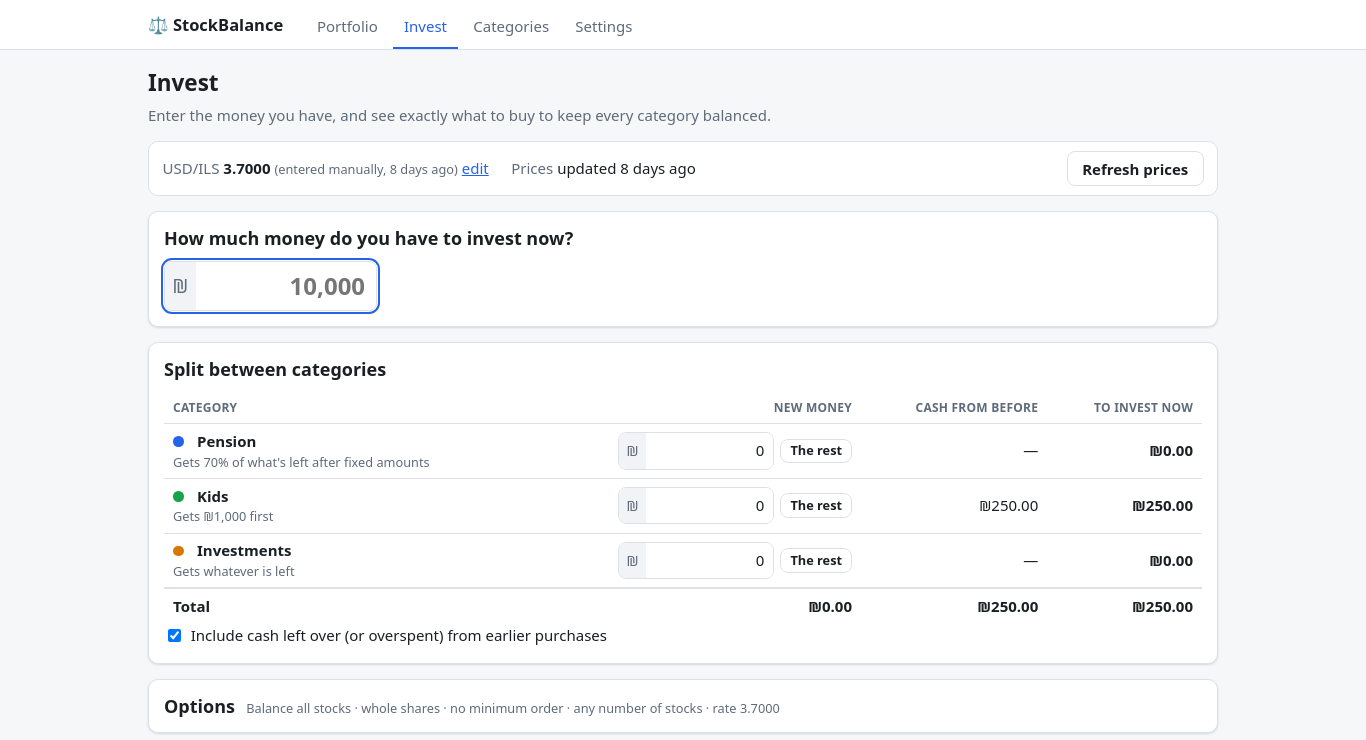
InvestPage › lets the user change one category amount and reset to the rules
Type "10000" into the field named "Amount to invest in ILS" at (286, 286), box 196,262 -> 376,310
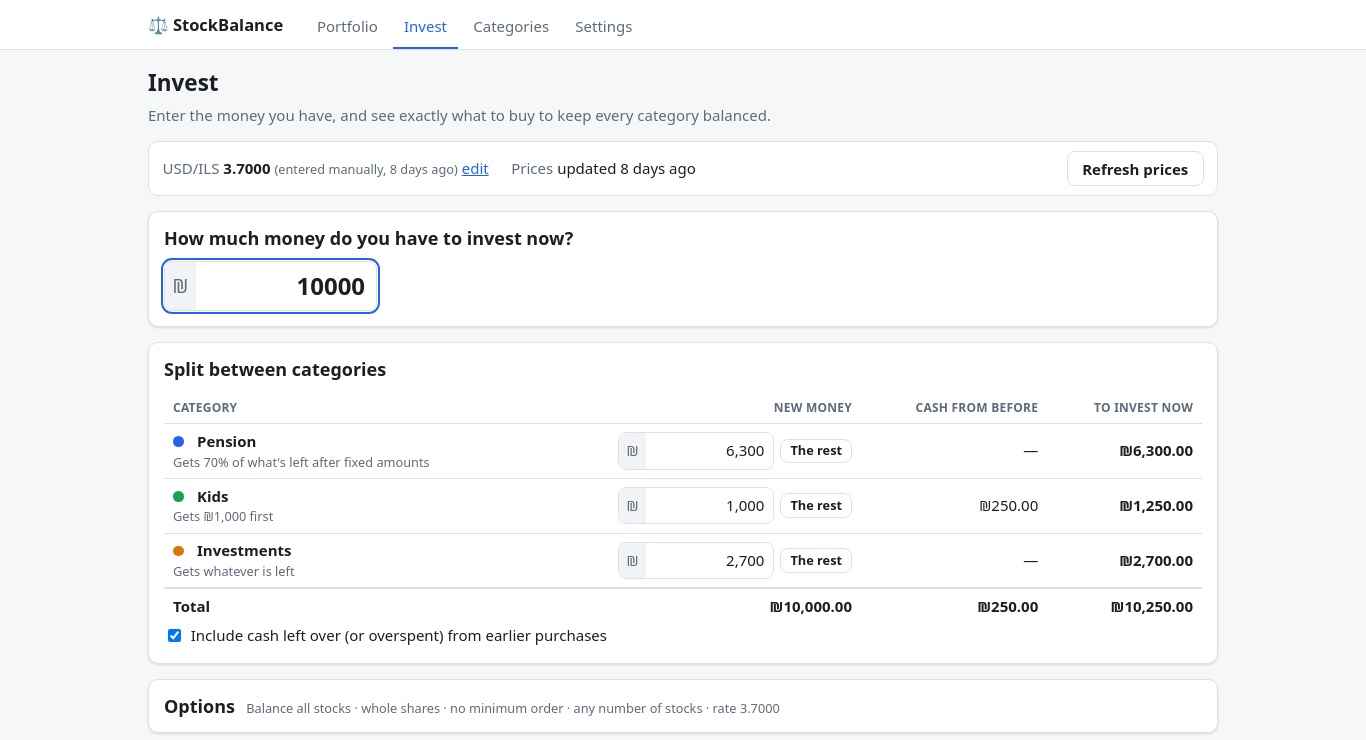
Clear the field named "New money for Kids" at (710, 506), box 646,488 -> 774,523
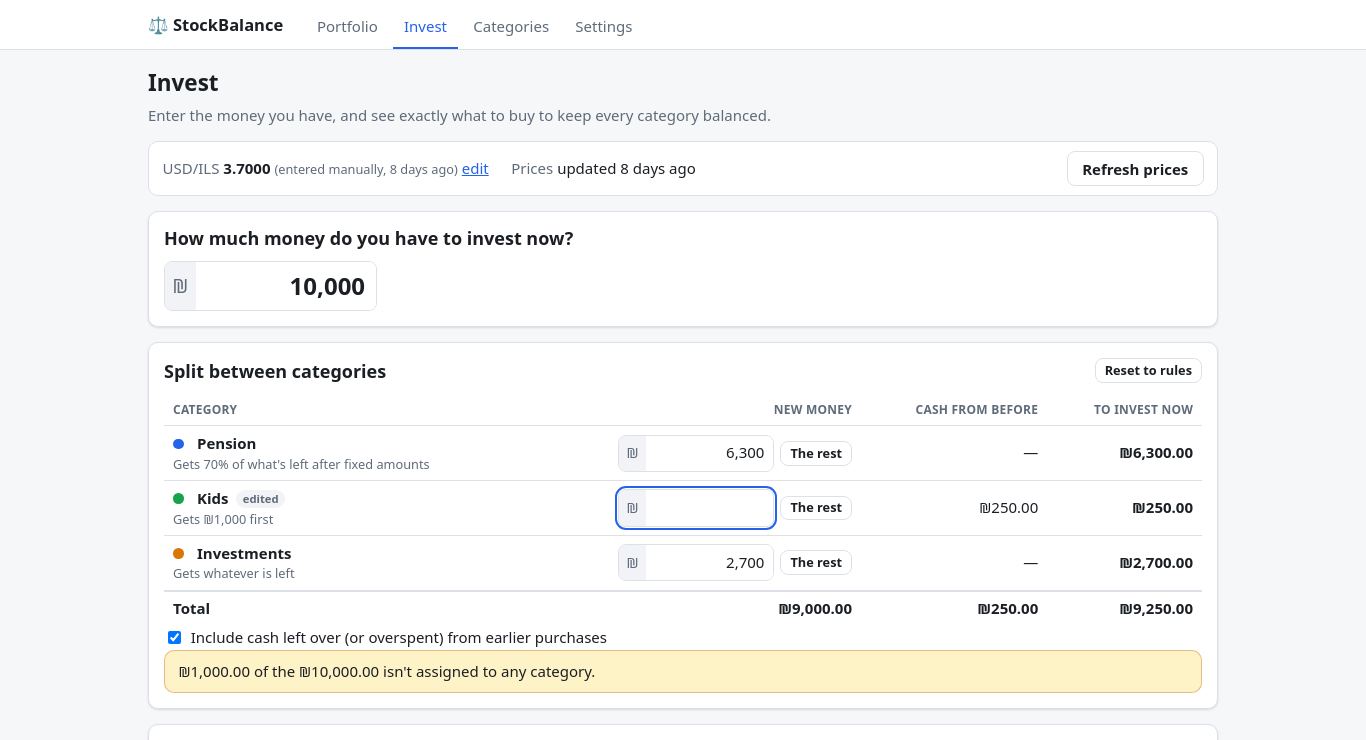
Type "2000" into the field named "New money for Kids" at (710, 508), box 646,490 -> 774,526
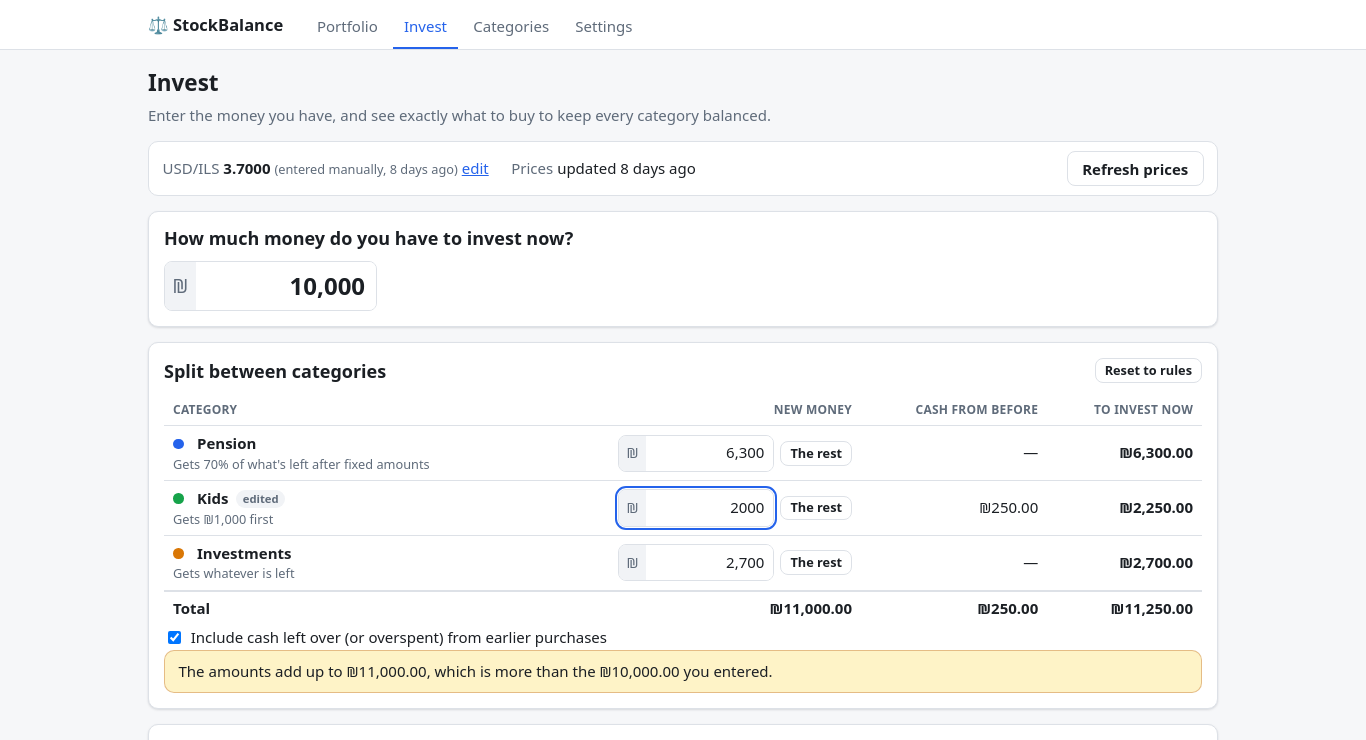
Result: the text "edited" is shown at 236,490 -> 285,508
Result: the text "more than the ₪10,000.00 you entered" is shown at 178,661 -> 773,681
Click the button "Reset to rules" at (1148, 371), box 1095,358 -> 1202,383
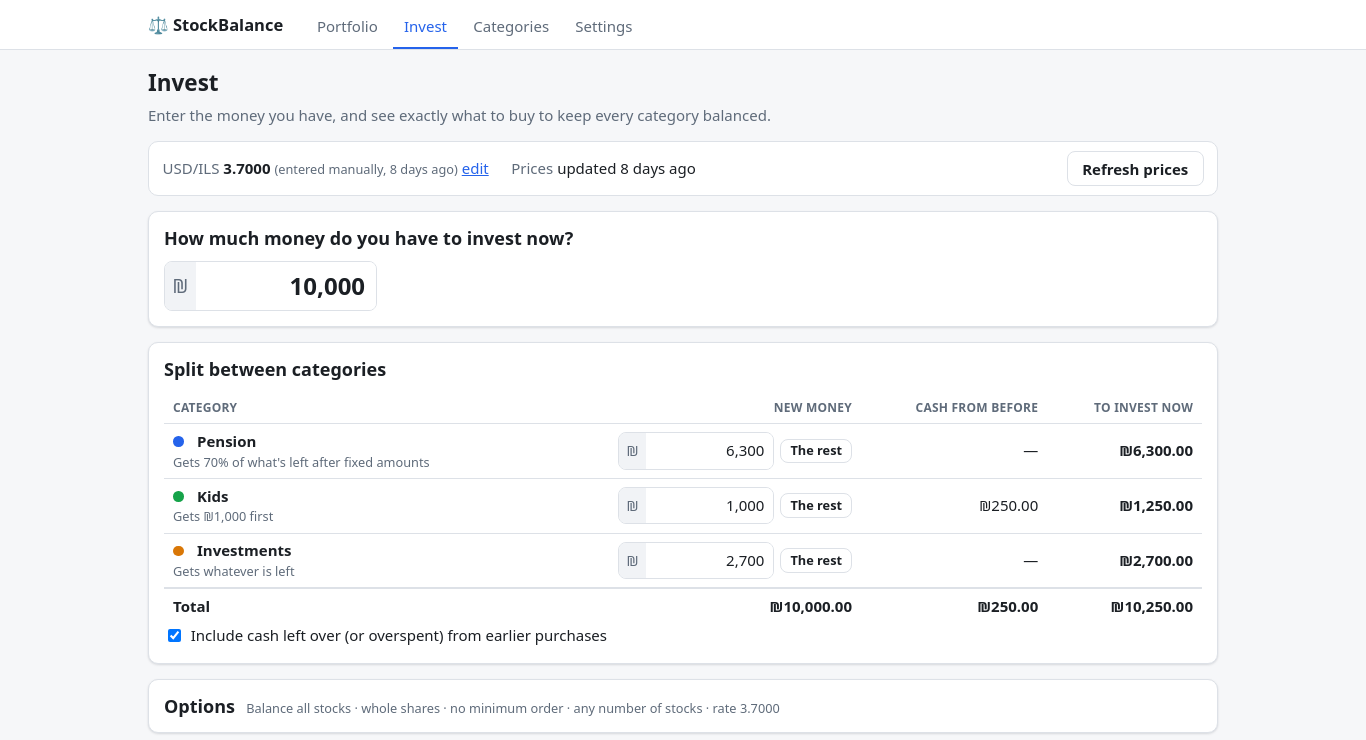
Result: the field named "New money for Kids" holds "1,000" at 646,488 -> 774,523
Result: the text "edited" is gone
